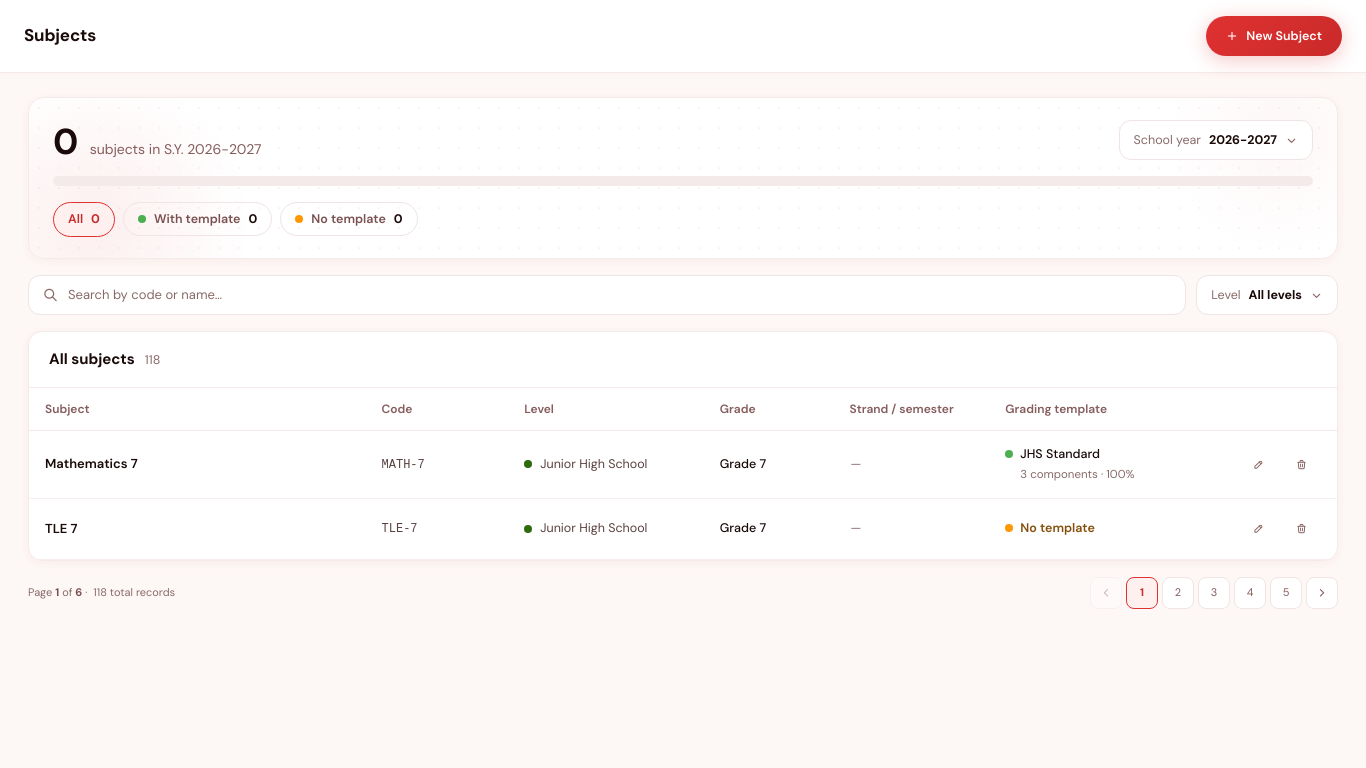
Test: Subjects — status band › lists the subjects with no template from the legend, and clears on a second click
Click the button with aria-label "No template 3".
click(349, 219)  # box [280,202,418,236]
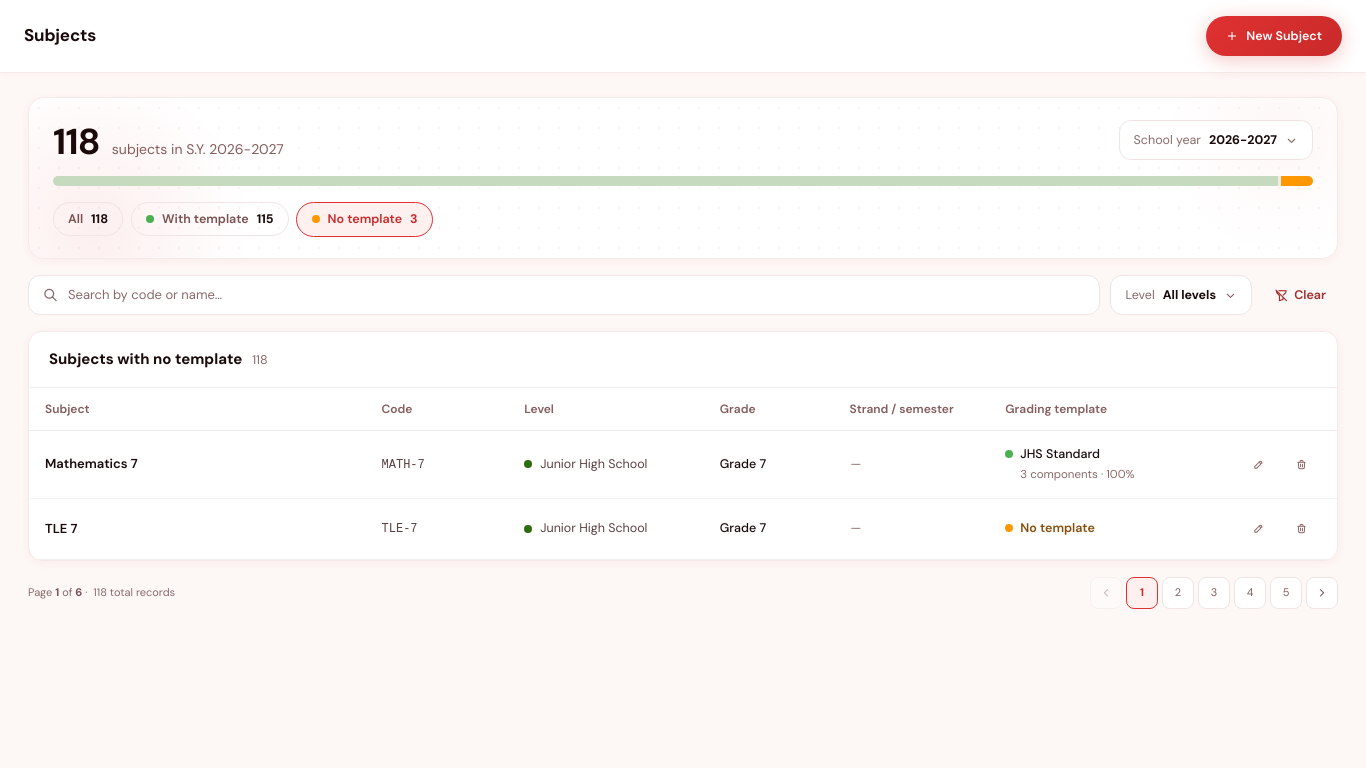
Expected: the heading "Subjects with no template" is shown, [49,348,242,370]
Click the button "No template 3".
click(365, 219)  # box [297,202,433,236]
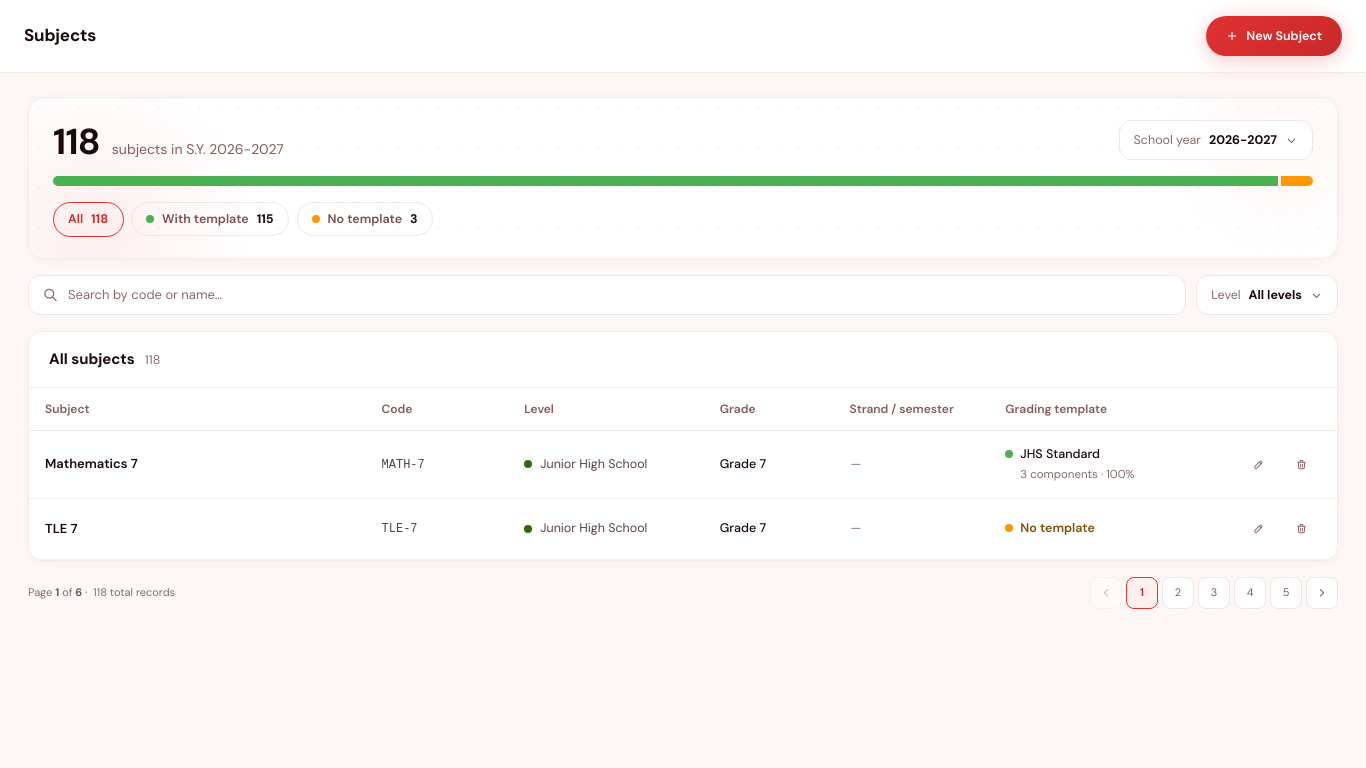
Expected: the heading "All subjects" is shown, [49,348,135,370]
